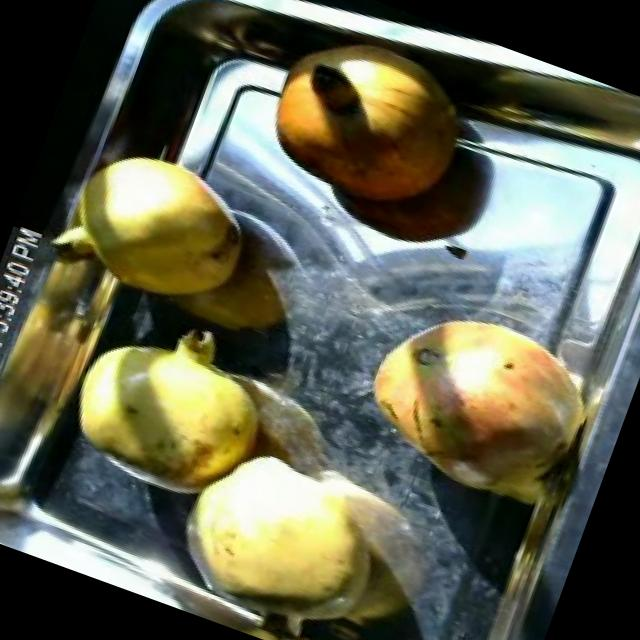fruit: (338, 271, 620, 525), (48, 286, 302, 529), (148, 417, 420, 640), (240, 8, 494, 239), (47, 130, 276, 330)
